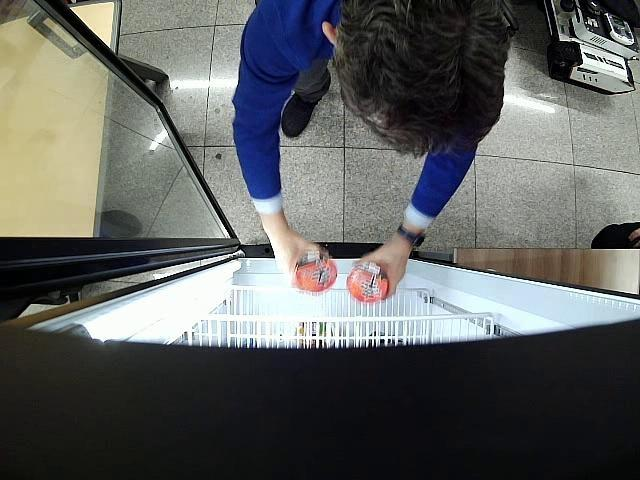02_shinRamen_S: (292, 253, 336, 295), (348, 261, 388, 303)
